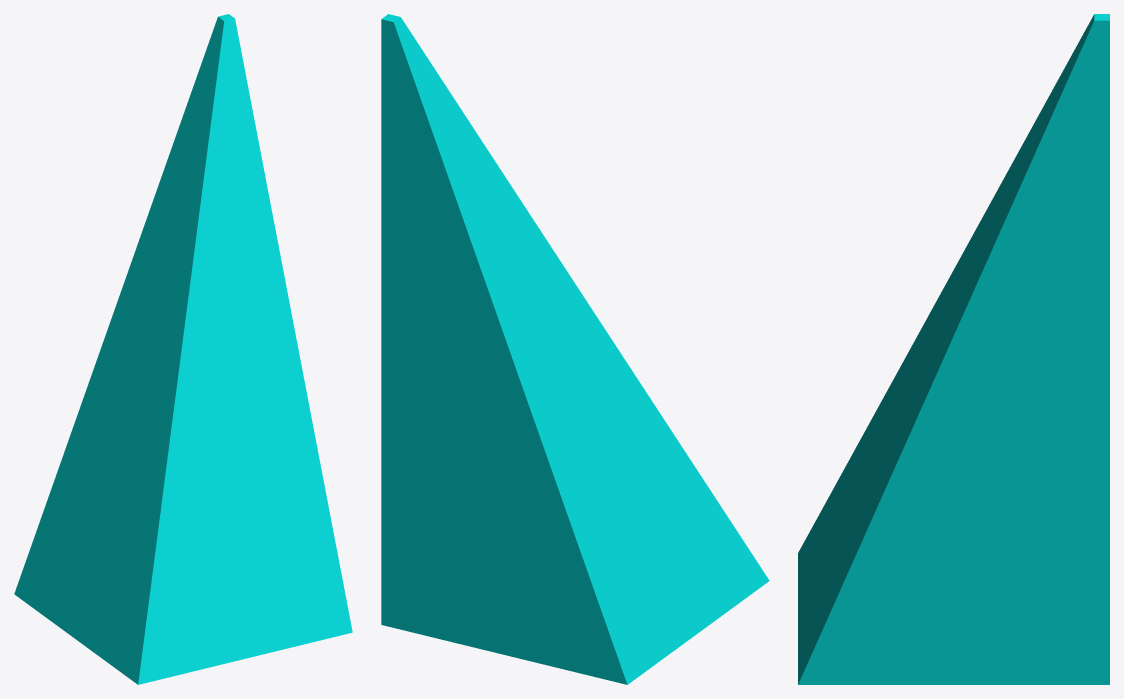
File: SM_Bld_Wall_Slope_Corner_01_Collision.fbx
The picture shows the model from 3 angles, left to right: view 1: azimuth 30°, elevation 25°; view 2: azimuth 150°, elevation 25°; view 3: azimuth 270°, elevation 25°; orthographic projection. The views are drawn at different scales.
Visible parts, largest first — view 1: SM_Bld_Wall_Slope_Corner_01_Collision; view 2: SM_Bld_Wall_Slope_Corner_01_Collision; view 3: SM_Bld_Wall_Slope_Corner_01_Collision.
Boxes of the visible parts, x1,y1,x2,y2 form: SM_Bld_Wall_Slope_Corner_01_Collision: (14, 14, 352, 684); SM_Bld_Wall_Slope_Corner_01_Collision: (381, 14, 769, 684); SM_Bld_Wall_Slope_Corner_01_Collision: (798, 14, 1109, 684).
Bounding box in the file's own units: 256 × 601 × 256.
